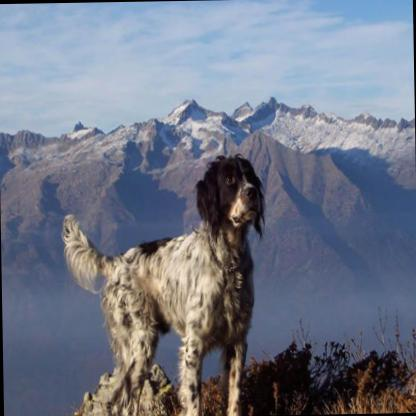English_setter: (59, 153, 265, 416)
